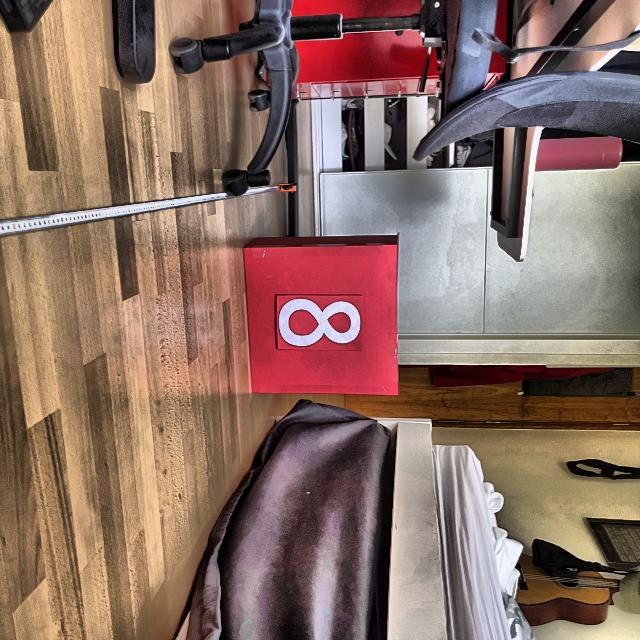eight: (276, 298, 361, 350)
red box: (245, 232, 400, 395)
